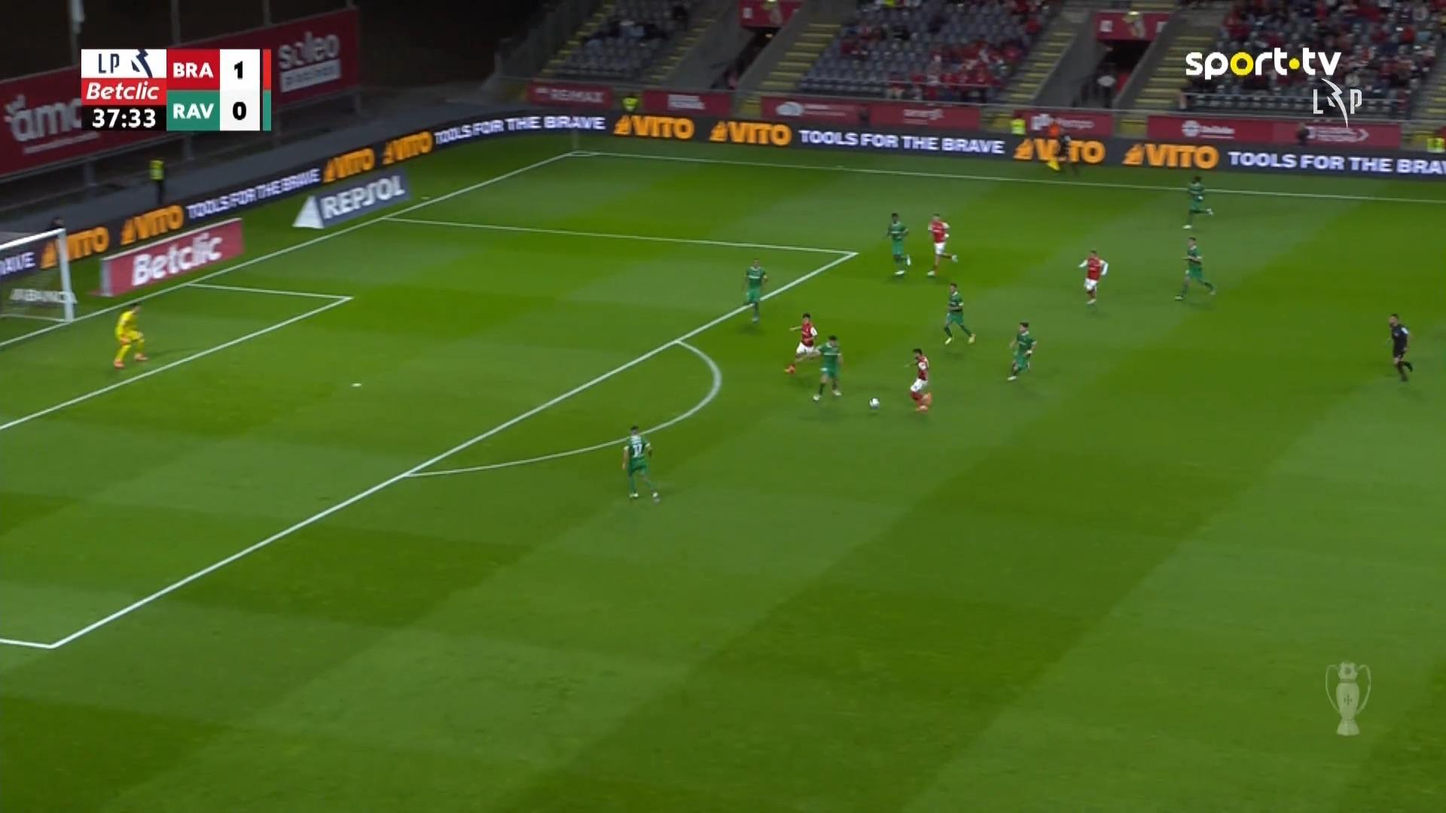ball: (868, 397, 879, 408)
goalkeeper: (111, 302, 148, 368)
player: (620, 424, 660, 501), (1173, 236, 1216, 301), (811, 334, 844, 400), (941, 282, 975, 346), (784, 312, 819, 373), (926, 212, 958, 277), (1006, 320, 1037, 381), (905, 347, 932, 412), (1078, 248, 1109, 304), (1182, 174, 1213, 229), (743, 257, 768, 322), (886, 212, 911, 276)
referee: (1387, 312, 1413, 382), (1046, 130, 1078, 174)
